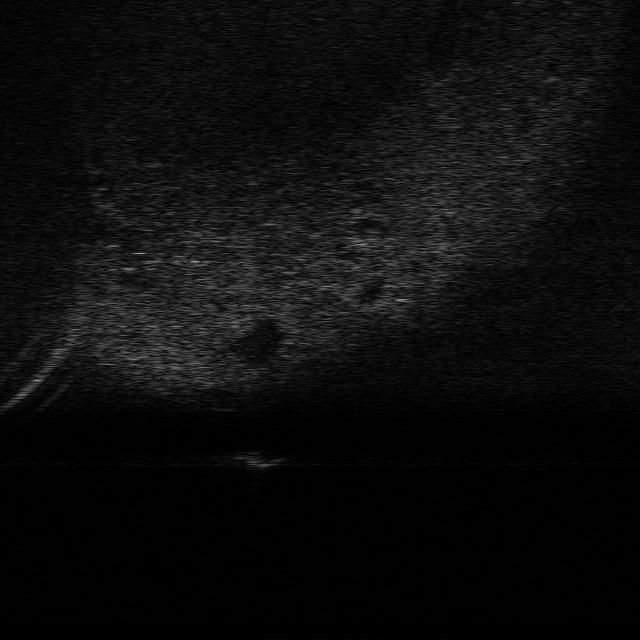cube: (228, 448, 286, 473)
